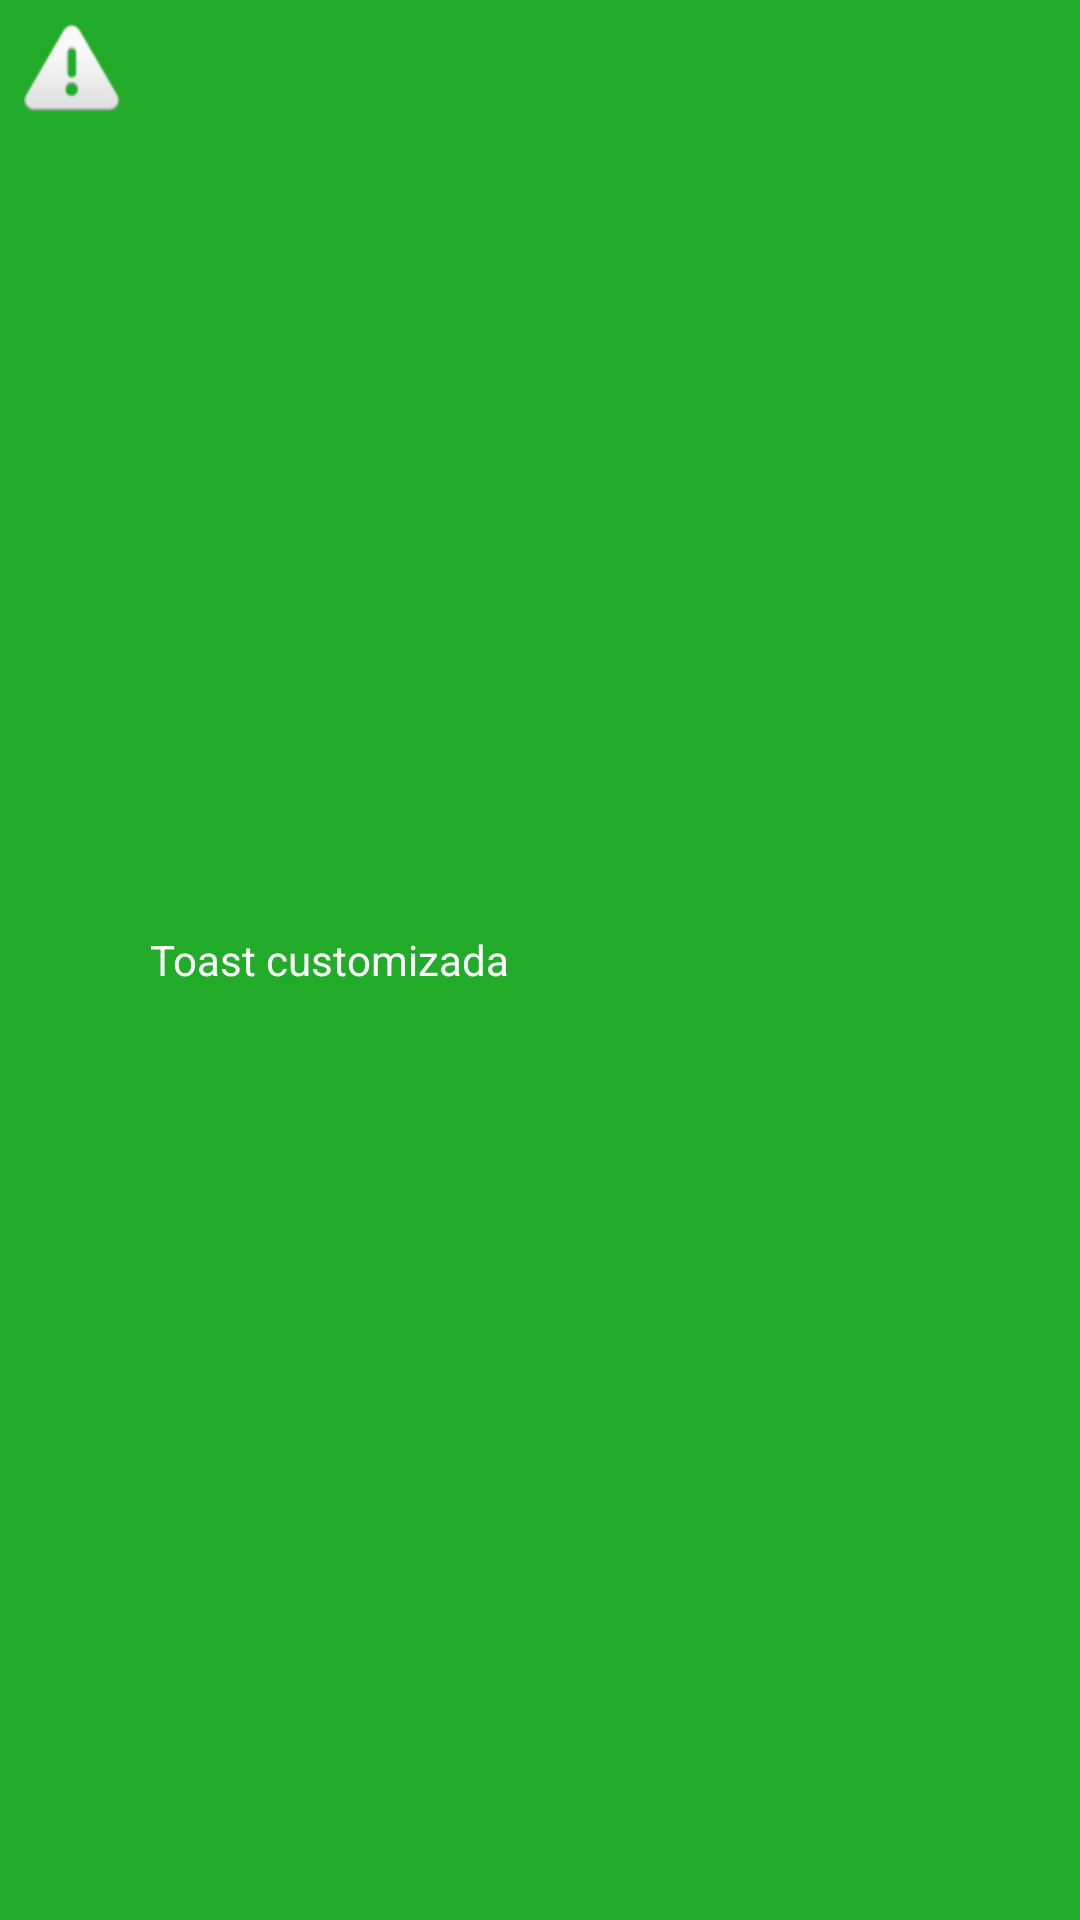

Screen size 1080×1920. Icon name, then its box in pixels as BBox(x1, y1, x2, y2):
alert: BBox(24, 24, 120, 111)
